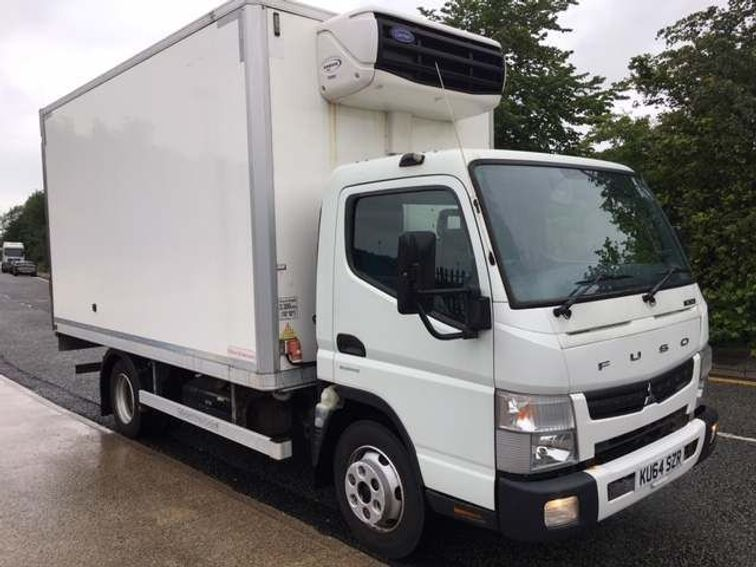Semi: (37, 0, 716, 566)
